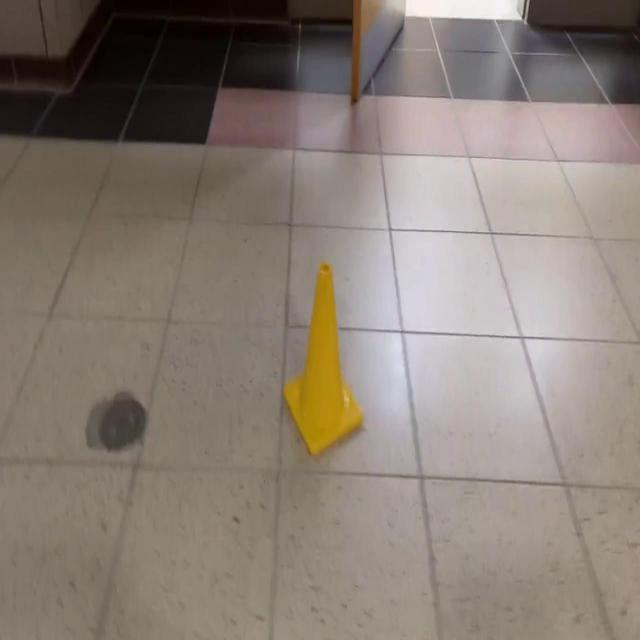frc_cone: (285, 262, 365, 459)
